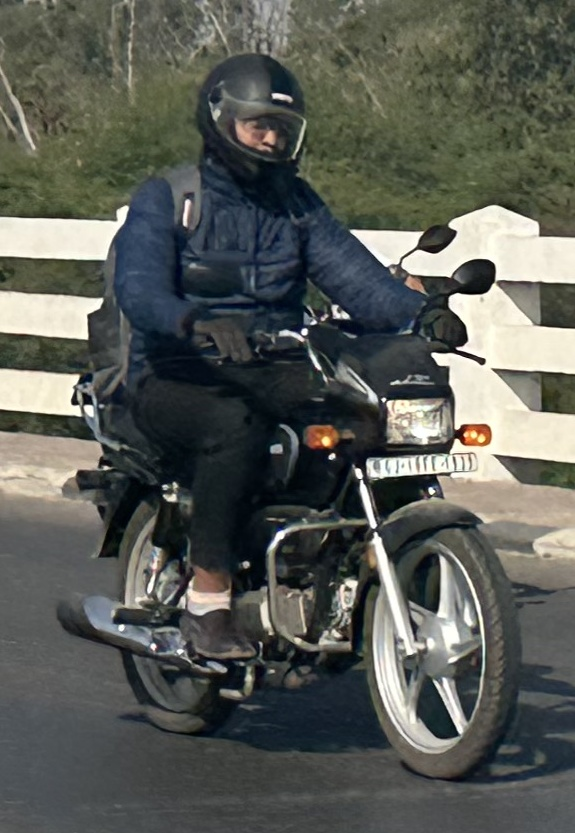BikeWithRider: (41, 29, 536, 806)
Helmet: (178, 38, 319, 188)
